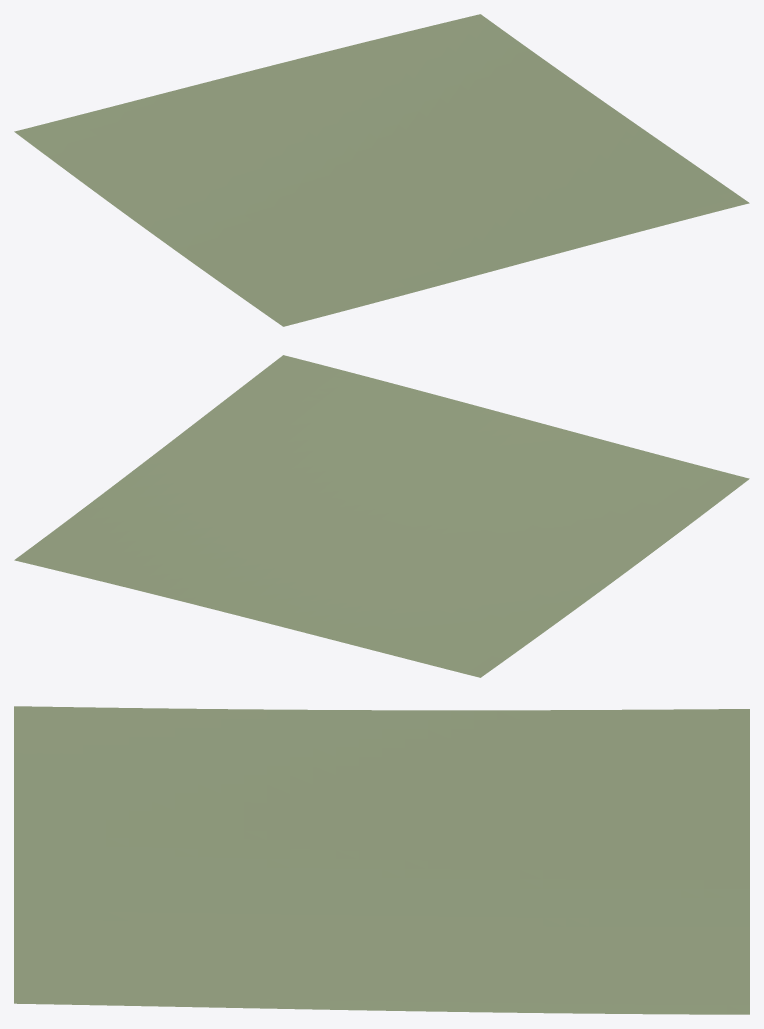
File: expanse-17-31.glb
3 views of the same model, one above another, from view 1: azimuth 30°, elevation 25°; view 2: azimuth 150°, elevation 25°; view 3: azimuth 270°, elevation 25° (orthographic). The views are drawn at different scales.
Parts seen in each view (by area): view 1: expanse-17-31; view 2: expanse-17-31; view 3: expanse-17-31.
Part boxes in pixels (<box>): expanse-17-31: <box>14,14,749,326</box>; expanse-17-31: <box>14,355,749,677</box>; expanse-17-31: <box>14,706,749,1014</box>.
Bounding box in the file's own units: 256 × 6.76 × 256.
